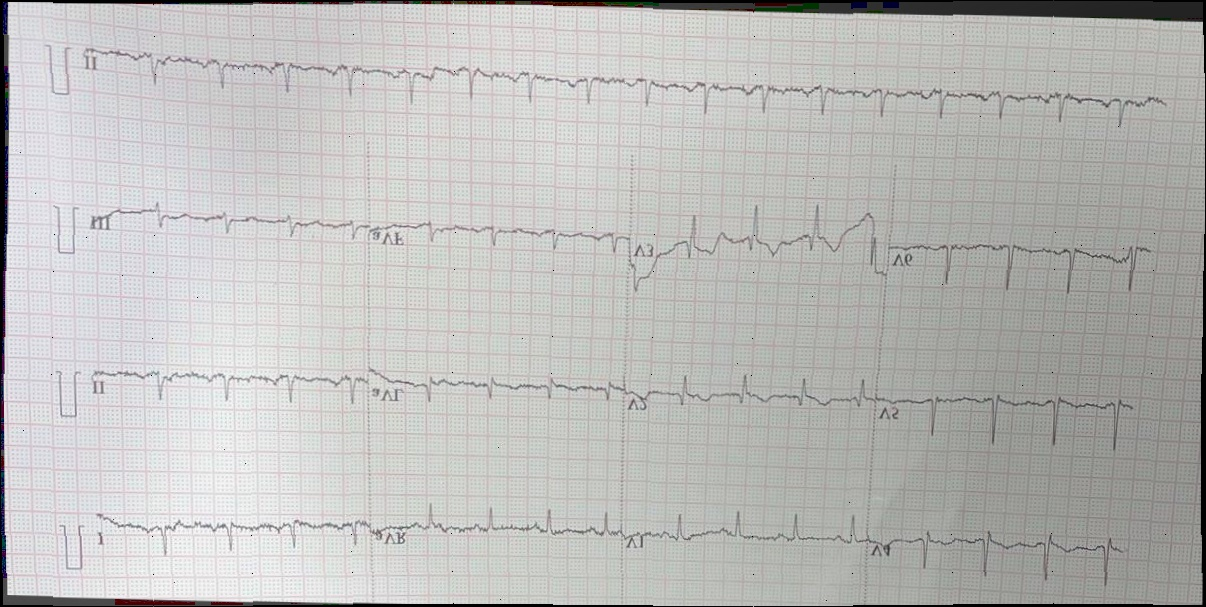Lead_I: (84, 495, 372, 576)
Lead_II: (83, 341, 371, 421)
Lead_III: (77, 195, 369, 256)
Lead_II_ext: (73, 28, 1183, 132)
Lead_V1: (620, 493, 872, 571)
Lead_V2: (626, 352, 878, 437)
Lead_V3: (628, 186, 890, 314)
Lead_V4: (870, 506, 1139, 597)
Lead_V5: (877, 366, 1140, 467)
Lead_V6: (887, 219, 1163, 312)
Lead_aVF: (363, 191, 632, 269)
Lead_aVL: (369, 349, 628, 429)
Lead_aVR: (370, 483, 627, 571)
